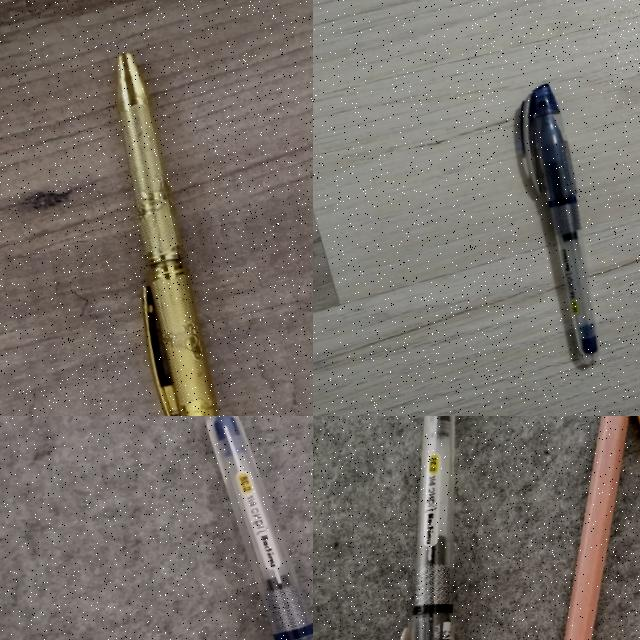pen: (332, 416, 530, 640), (205, 416, 312, 639), (520, 83, 599, 365)
pencil: (564, 416, 629, 640)
signature pen: (117, 53, 216, 415)
